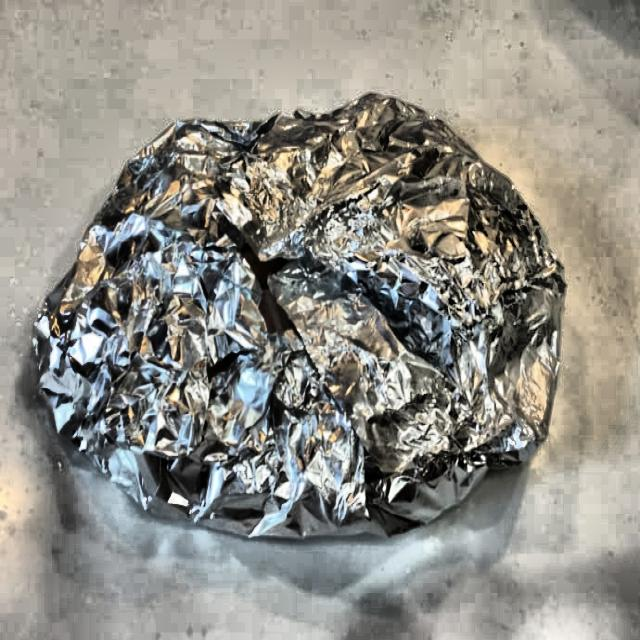Foil: (32, 89, 570, 550)
